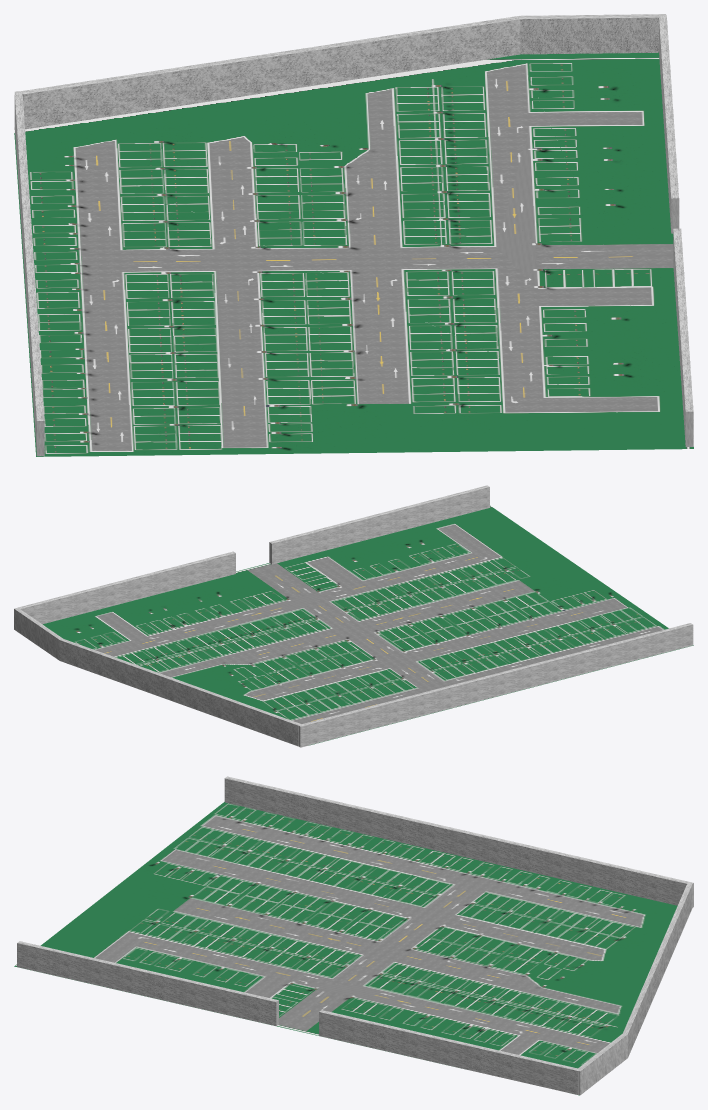
File: tingchechang1.gltf
The picture shows the model from 3 angles, top to bottom: view 1: azimuth 30°, elevation 25°; view 2: azimuth 150°, elevation 25°; view 3: azimuth 270°, elevation 25°; orthographic projection. The views are drawn at different scales.
Visible parts, largest first — view 1: Line086, Box077, Box078, Box080, Box079; view 2: Line086, Box080, Box079, Box077, Box078; view 3: Line086, Box080, Box079, Box077, Box078.
Part boxes in pixels (x1,y1,x2,y2): Line086: [14, 52, 693, 456]; Box077: [21, 16, 520, 129]; Box078: [519, 14, 665, 54]; Box080: [659, 15, 693, 446]; Box079: [14, 91, 44, 456]; Line086: [43, 505, 693, 747]; Box080: [16, 485, 489, 624]; Box079: [298, 623, 693, 747]; Box077: [59, 639, 300, 746]; Box078: [14, 608, 62, 660]; Line086: [14, 802, 692, 1095]; Box080: [17, 941, 579, 1094]; Box079: [224, 776, 693, 907]; Box077: [622, 884, 692, 1057]; Box078: [576, 1034, 627, 1095].
Bounding box in the file's own units: 647 × 24.52 × 629.
5 materials, 5 textured.
